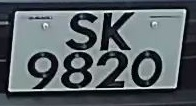0: (129, 48, 164, 90)
2: (95, 49, 128, 91)
8: (60, 49, 95, 90)
9: (25, 48, 60, 91)
K: (98, 11, 135, 51)
S: (64, 11, 98, 51)
